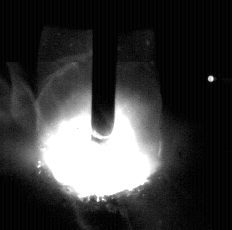arame: (92, 0, 117, 136)
poca: (38, 0, 164, 230)
